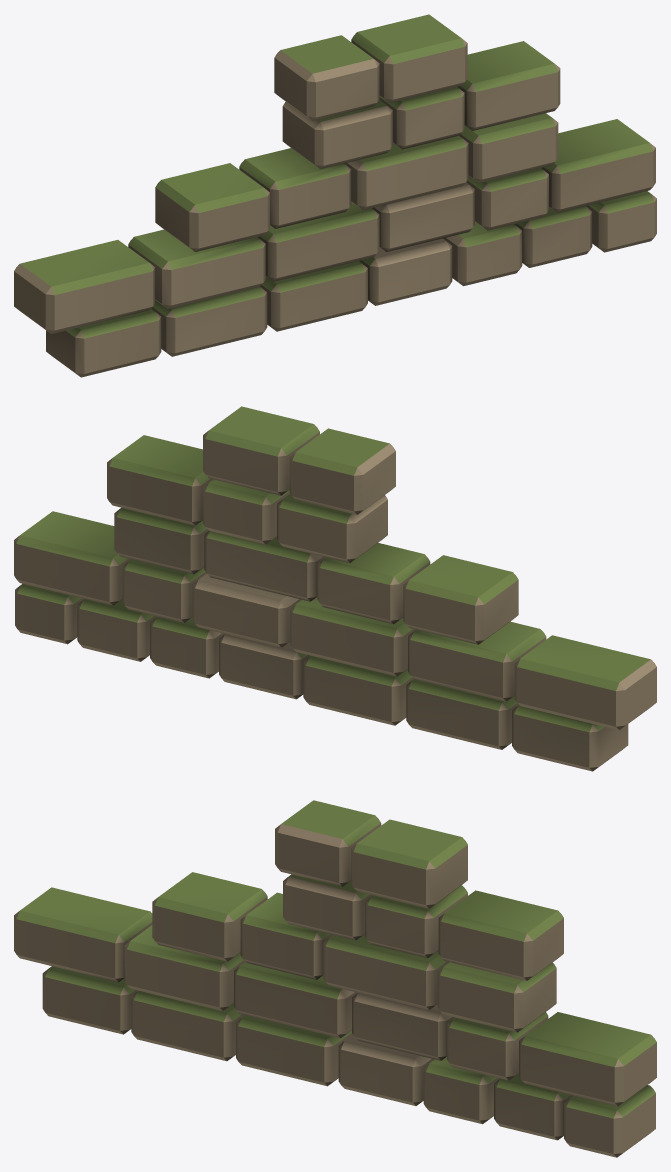
Rendered from RuinWallLong.glb.
The picture shows the model from 3 angles, top to bottom: view 1: azimuth 30°, elevation 25°; view 2: azimuth 150°, elevation 25°; view 3: azimuth 330°, elevation 25°; orthographic projection.
Parts seen in each view (by area): view 1: Wall; view 2: Wall; view 3: Wall.
Part boxes in pixels (<box>): Wall: <box>14,14,656,377</box>; Wall: <box>14,406,656,771</box>; Wall: <box>14,800,656,1157</box>.
Size of the model in its own units: 14.62 by 5.69 by 1.79.
